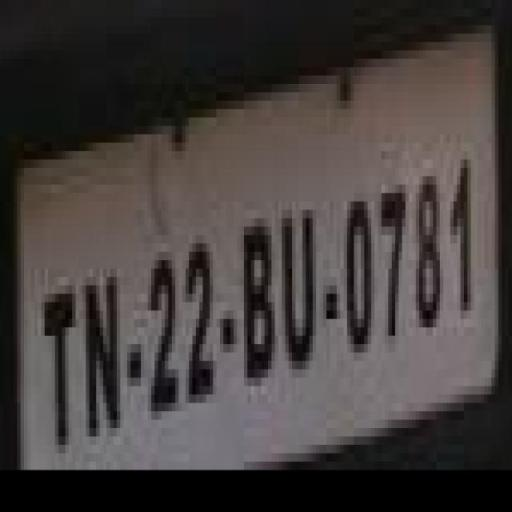number plate: (6, 84, 512, 462)
